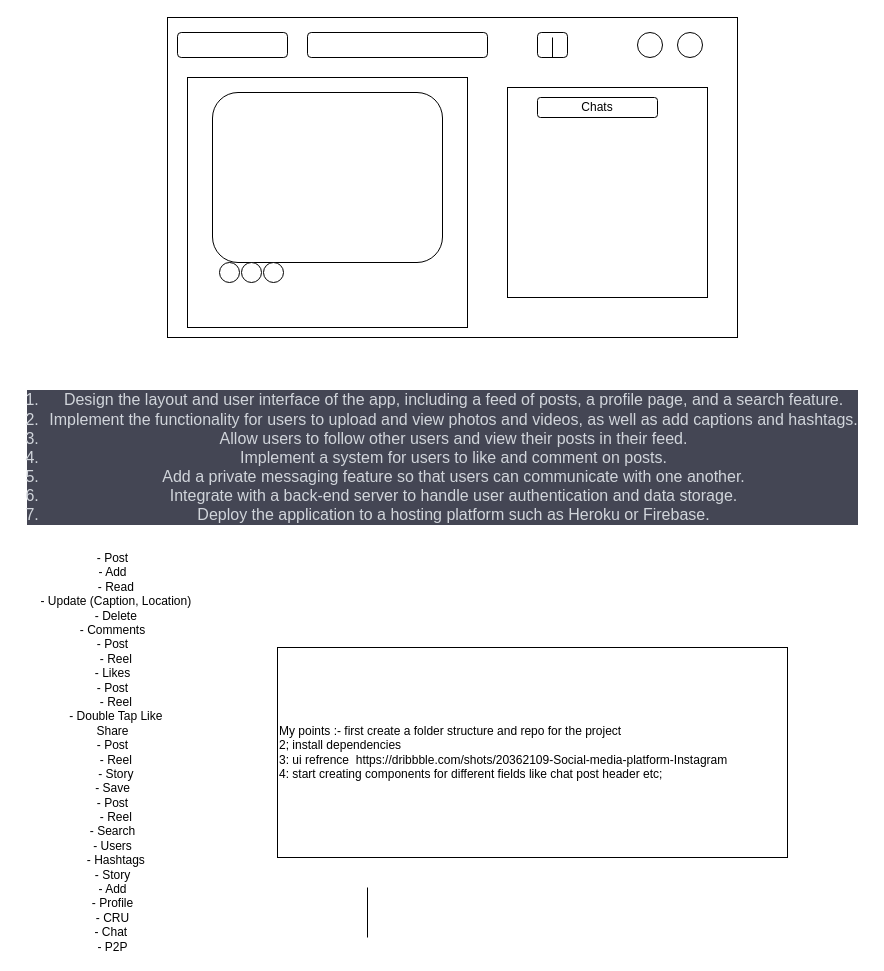
The diagram is 884 pixels wide and 971 high, and some of its shapes have lost their labels. Here are the shapes that lost their labels. From the top down, the centre of each, then its label:
At [232,45]: "instagram".
At [397,45]: "Search".
